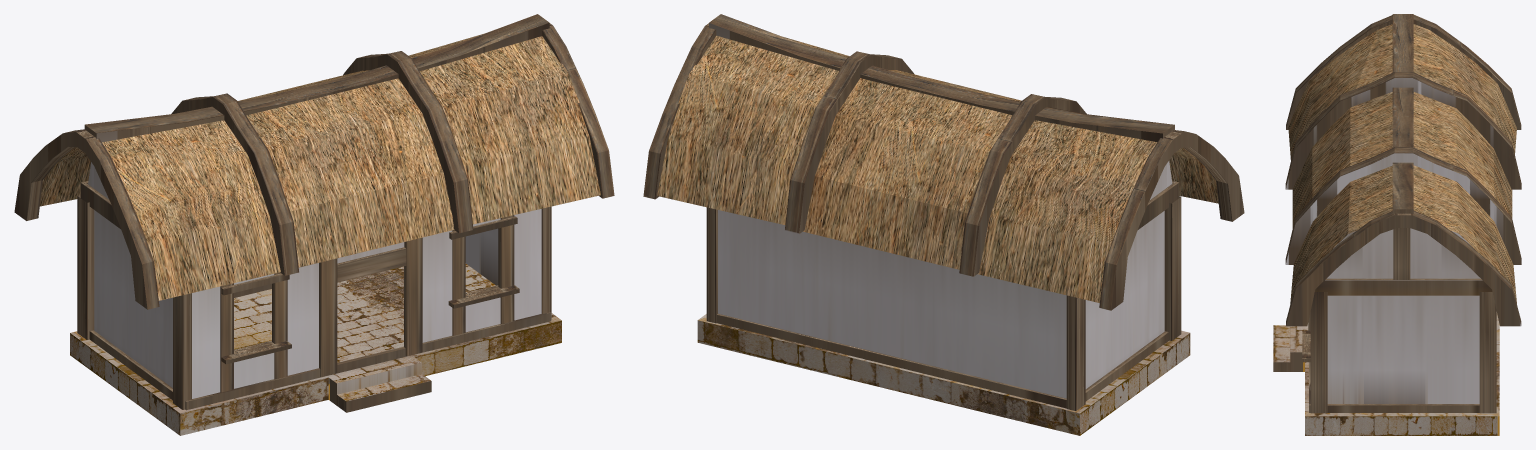
The model's file is medieval_house.fbx.
3 views of the same model, side by side, from view 1: azimuth 30°, elevation 25°; view 2: azimuth 150°, elevation 25°; view 3: azimuth 270°, elevation 25° (orthographic). The views are drawn at different scales.
Parts seen in each view (by area): view 1: house_Cube.026; view 2: house_Cube.026; view 3: house_Cube.026.
Part boxes in pixels (box(x1,y1,x2,y2)): house_Cube.026: box(14, 14, 614, 435); house_Cube.026: box(643, 14, 1244, 435); house_Cube.026: box(1273, 14, 1521, 435).
Size of the model in its own units: 1575 by 885 by 821.
